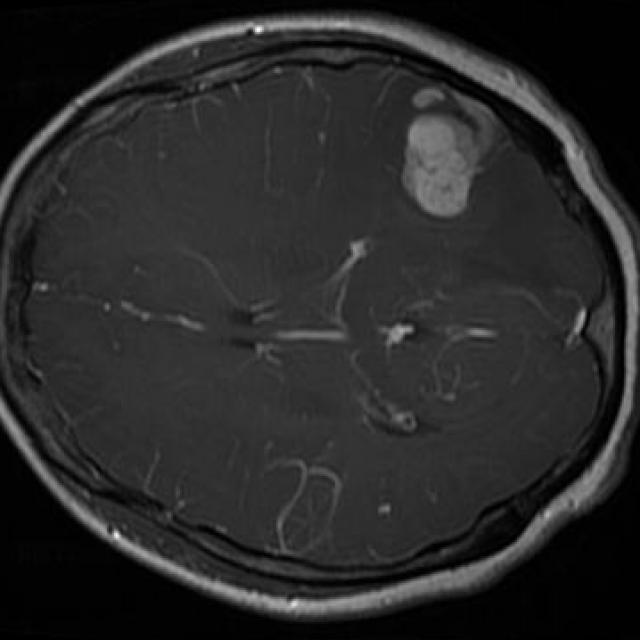glioma: (399, 86, 503, 217)
